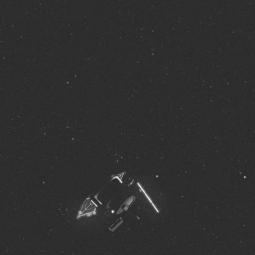earth_observation_sat_1: (64, 164, 169, 236)
